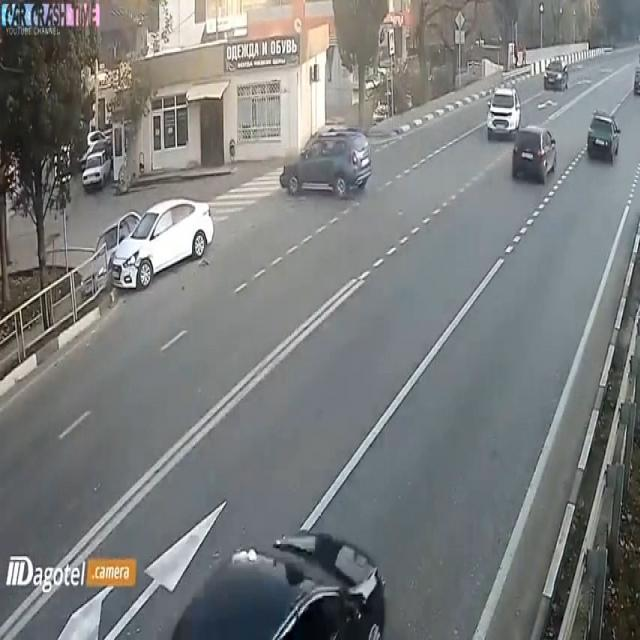Accident: (106, 178, 201, 328)
